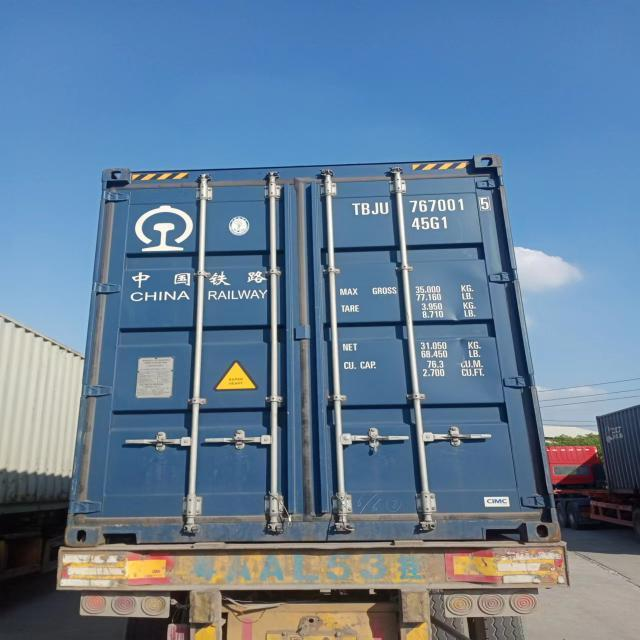ISO: (412, 216, 449, 233)
container_number: (353, 196, 492, 214)
